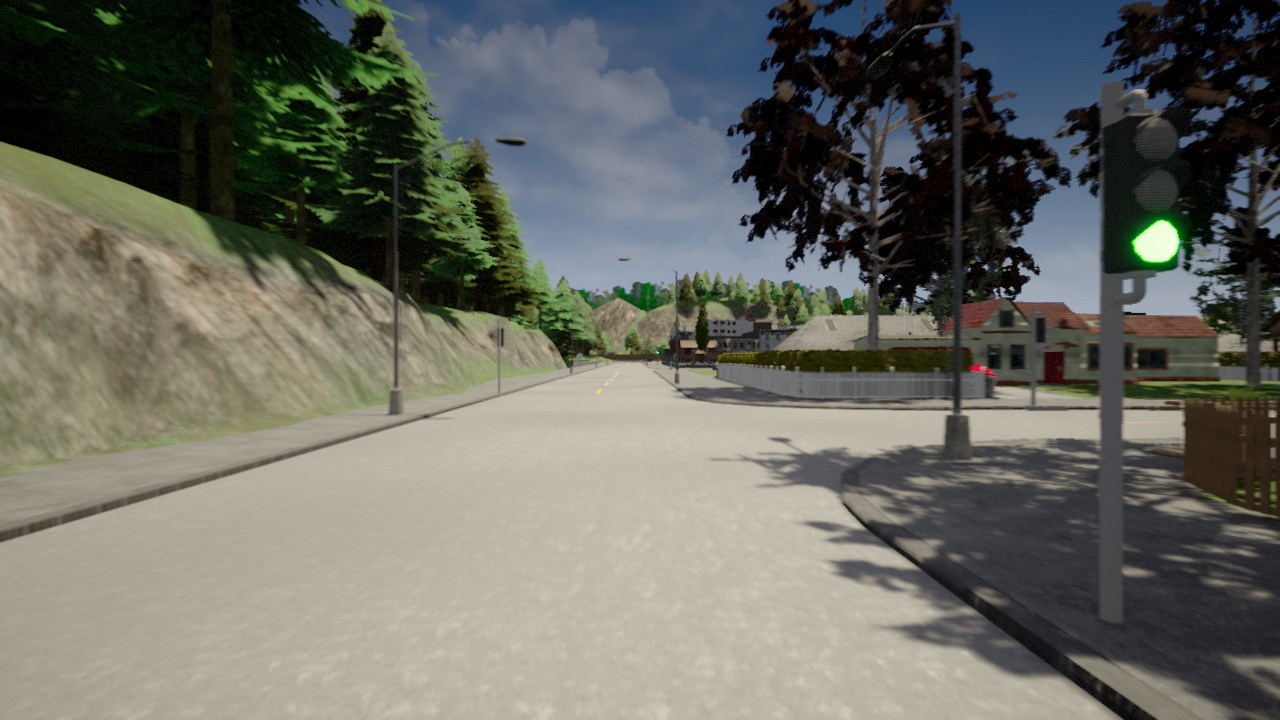green: (1108, 116, 1183, 290)
